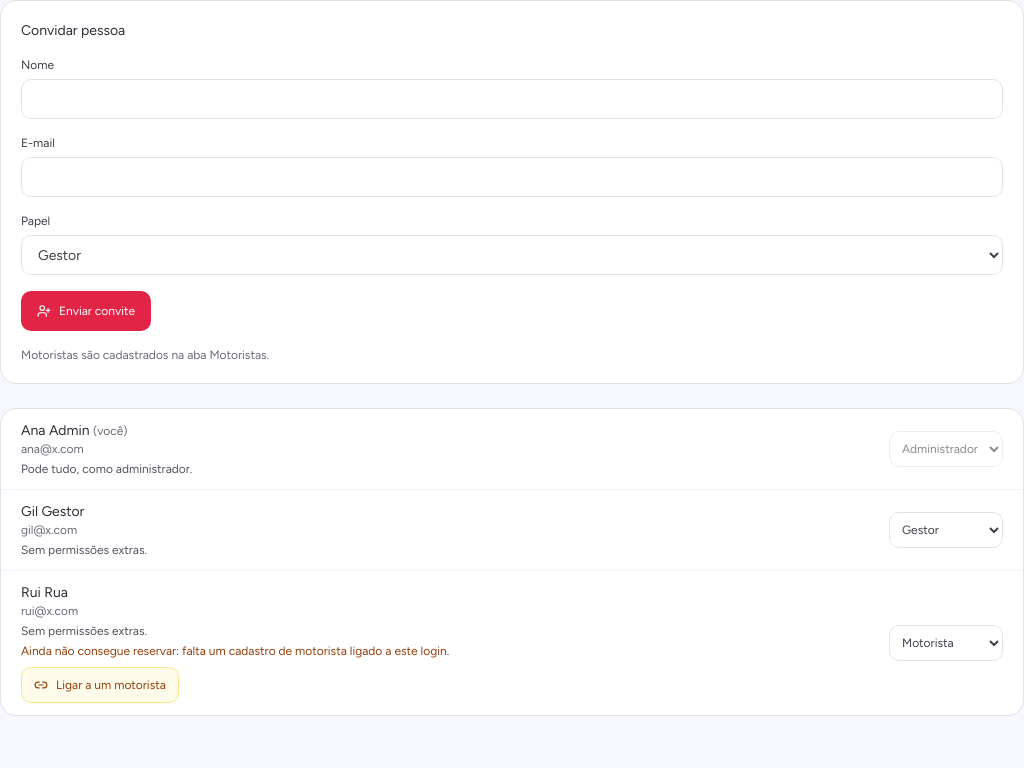
it: Pessoas: ligar o login a um cadastro de motorista › liga a um motorista cadastrado sem acesso (só os ativos e sem login aparecem)
Click the button named "Ligar a um motorista: Rui Rua".
click(100, 685)  # box [21,667,179,703]
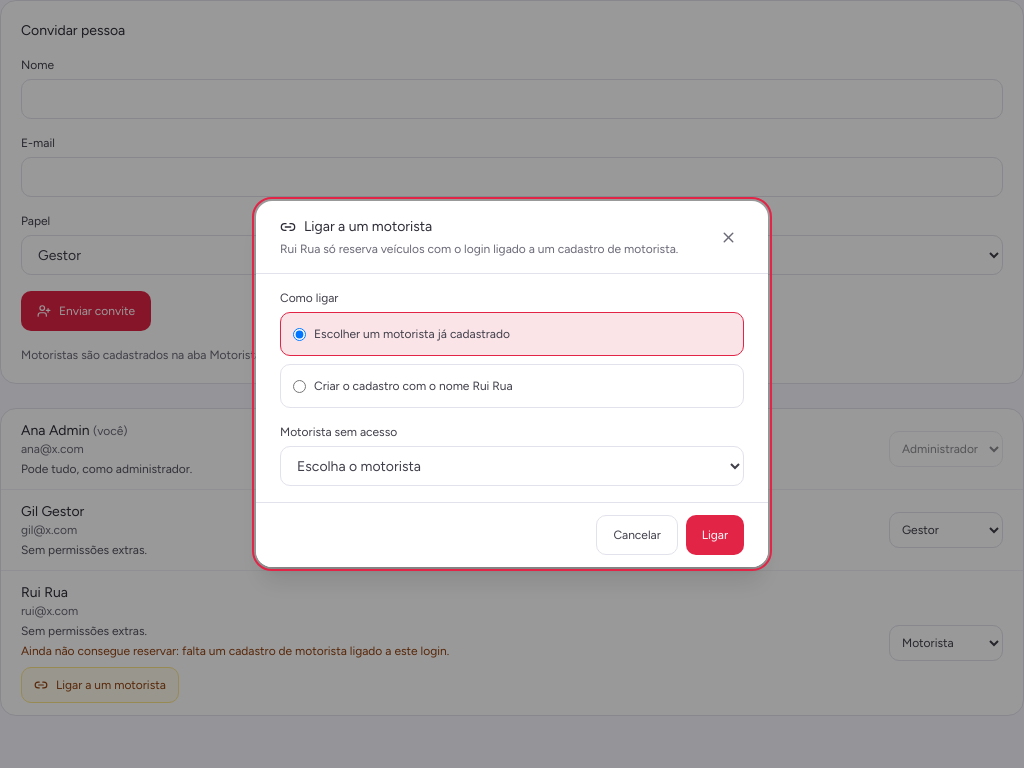
Select "Rui da Silva" in the dropdown labelled "Motorista sem acesso" at [512, 466], box [280,446,744,486]
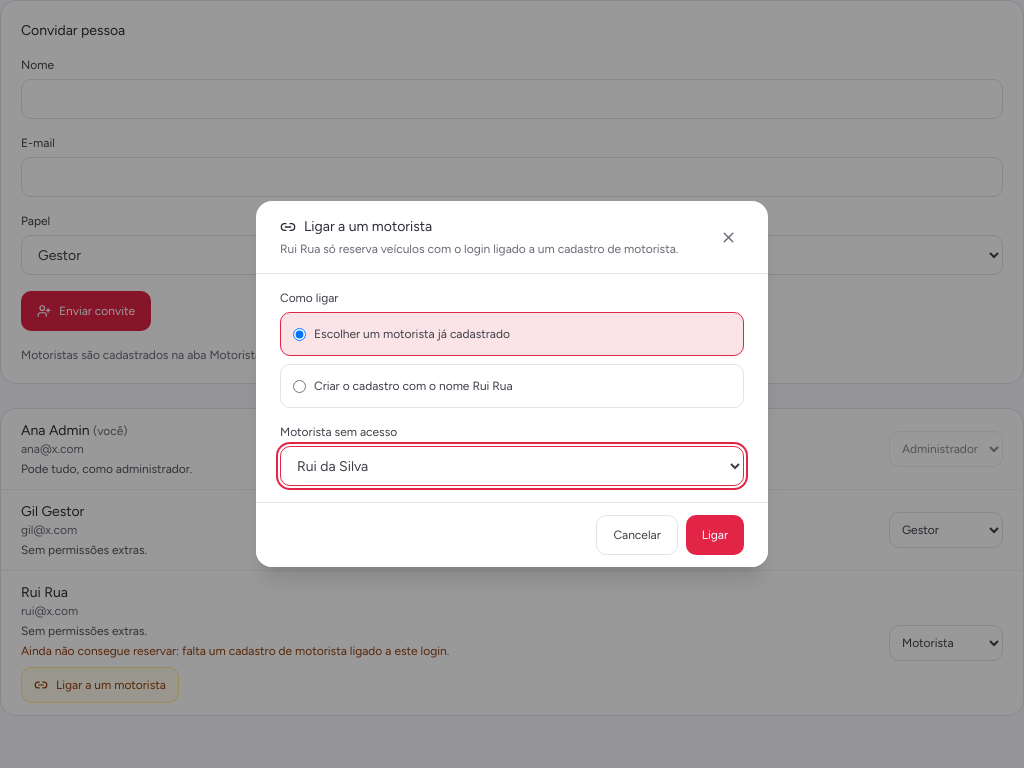
Click the button "Ligar".
click(715, 535)  # box [686,515,744,555]
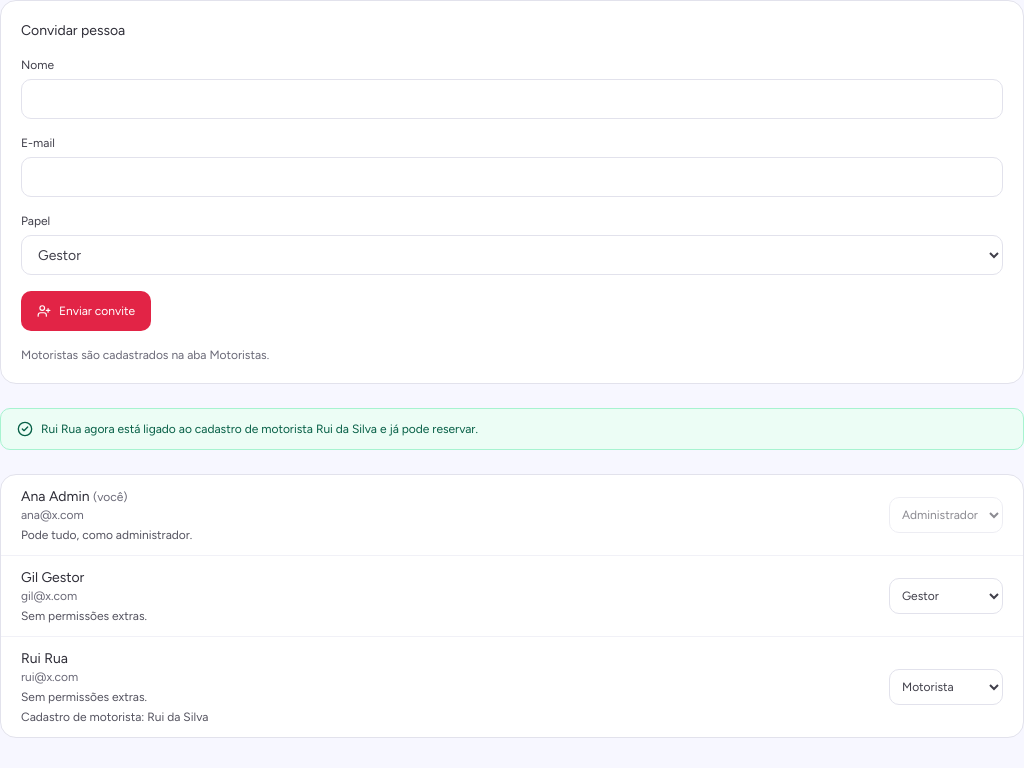
Expected: the text "Rui Rua agora está ligado ao cadastro de motorista Rui da Silva" is shown, [41,422,478,436]
Expected: the dialog is gone
Expected: the text "Cadastro de motorista: Rui da Silva" is shown, [21,709,208,725]
